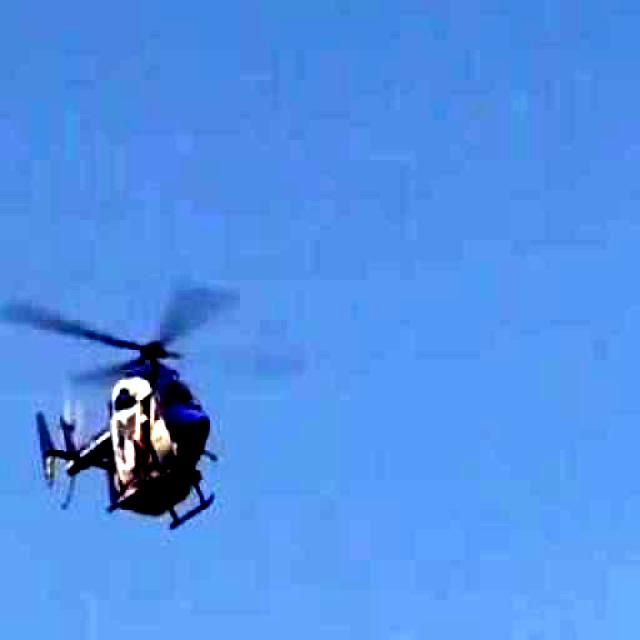drone: (0, 264, 319, 550)
